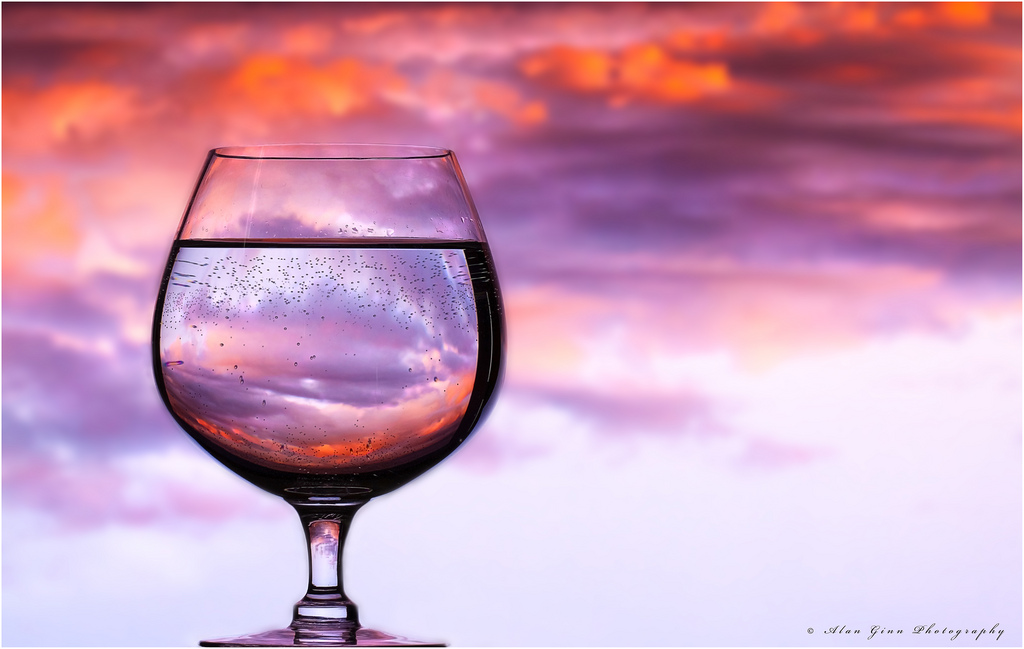glass of water: (139, 124, 523, 630)
